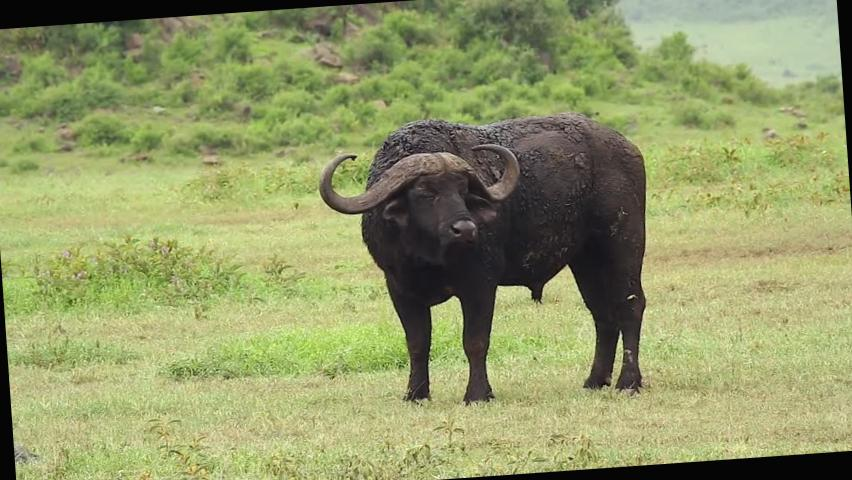Buffalo: (300, 52, 708, 434)
